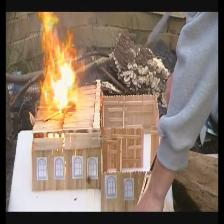fire: (38, 13, 86, 116)
